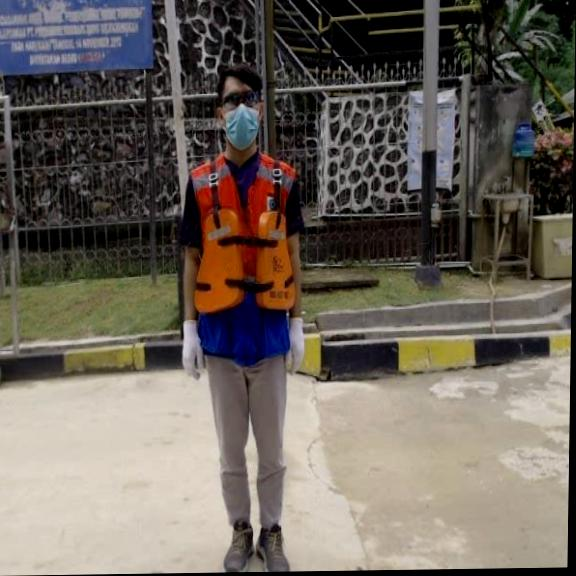safety_vest: (193, 211, 298, 314)
